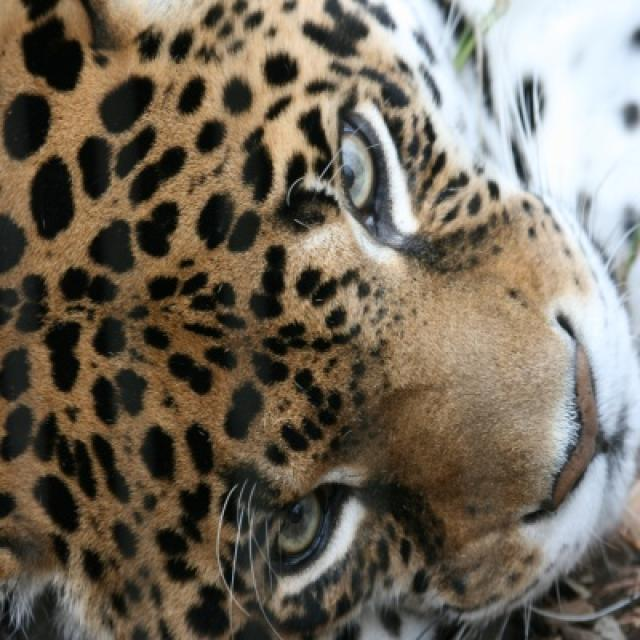Jaguar: (0, 1, 638, 638)
